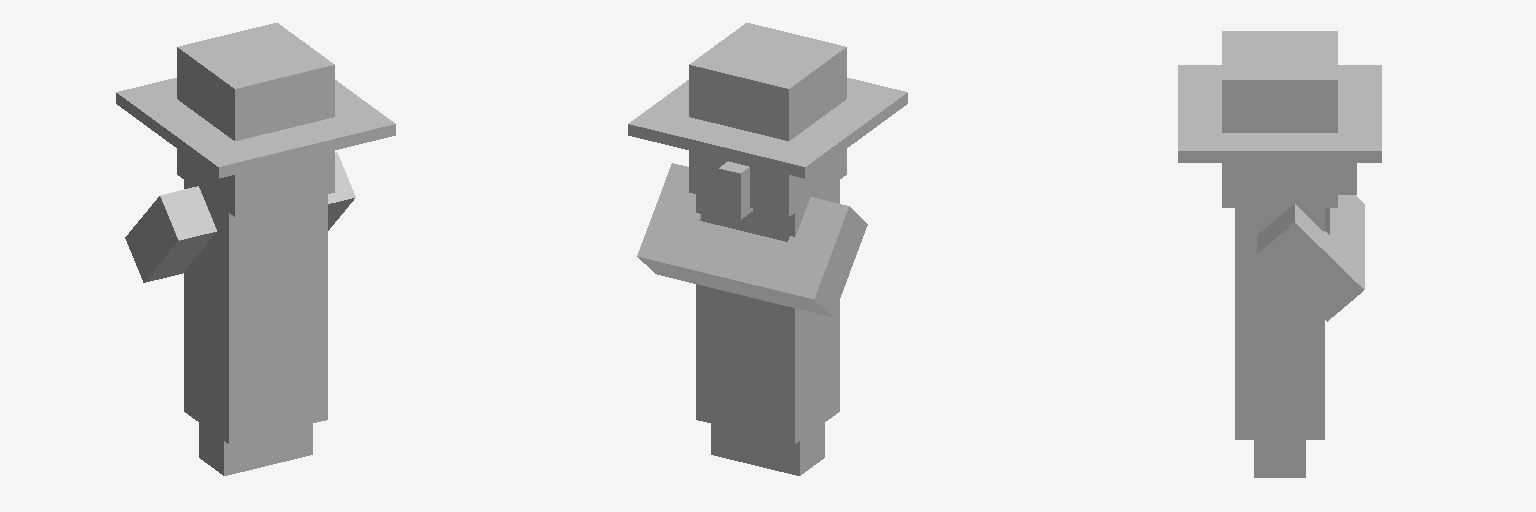
Rendered from villager.obj.
The picture shows the model from 3 angles: view 1: azimuth 30°, elevation 25°; view 2: azimuth 150°, elevation 25°; view 3: azimuth 270°, elevation 25°; orthographic projection.
Visible parts, largest first — view 1: bodywear, headwear, headwear2, mirrored, left_leg, right_leg, arms; view 2: bodywear, headwear, headwear2, arms, mirrored, left_leg, nose, right_leg; view 3: headwear, bodywear, headwear2, arms, right_leg, nose.
Part boxes in pixels (bbox=[...]): bodywear: bbox=[184, 180, 327, 443]; headwear: bbox=[177, 23, 334, 216]; headwear2: bbox=[116, 78, 395, 178]; mirrored: bbox=[125, 186, 216, 282]; left_leg: bbox=[199, 423, 268, 475]; right_leg: bbox=[269, 424, 312, 464]; arms: bbox=[328, 152, 355, 230]; bodywear: bbox=[696, 180, 839, 443]; headwear: bbox=[689, 23, 846, 216]; headwear2: bbox=[628, 78, 907, 178]; arms: bbox=[637, 163, 788, 306]; mirrored: bbox=[770, 197, 867, 316]; left_leg: bbox=[755, 423, 824, 475]; nose: bbox=[719, 161, 752, 219]; right_leg: bbox=[711, 424, 754, 464]; headwear: bbox=[1222, 31, 1337, 207]; bodywear: bbox=[1235, 208, 1324, 439]; headwear2: bbox=[1178, 65, 1381, 162]; arms: bbox=[1257, 200, 1364, 321]; right_leg: bbox=[1254, 440, 1305, 477]; nose: bbox=[1338, 163, 1356, 194].
Size of the model in its own units: 1 by 2.16 by 1.